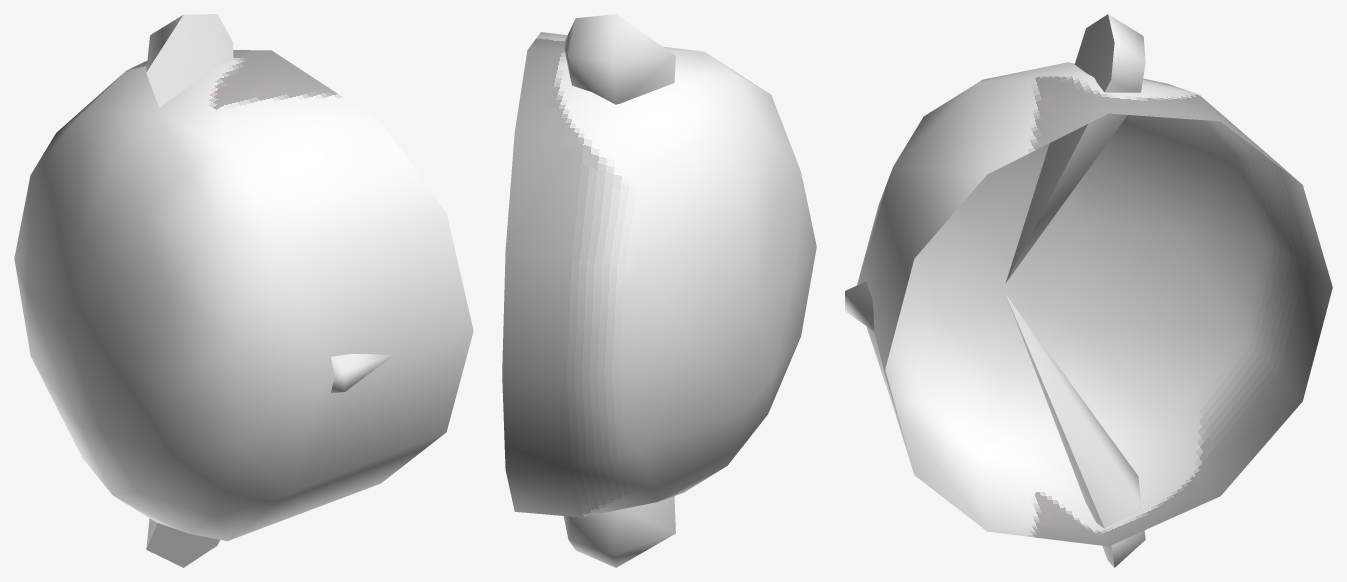
File: boy00b.dae
The picture shows the model from 3 angles, left to right: view 1: azimuth 30°, elevation 25°; view 2: azimuth 150°, elevation 25°; view 3: azimuth 270°, elevation 25°; orthographic projection.
Parts seen in each view (by area): view 1: boy00b; view 2: boy00b; view 3: boy00b.
Boxes of the visible parts, left/top/right/bottom form: boy00b: left=14, top=14, right=473, bottom=567; boy00b: left=502, top=14, right=816, bottom=567; boy00b: left=845, top=14, right=1332, bottom=567.
Bounding box in the file's own units: 15.5 × 26.71 × 21.59.
3 materials, 1 textured.
